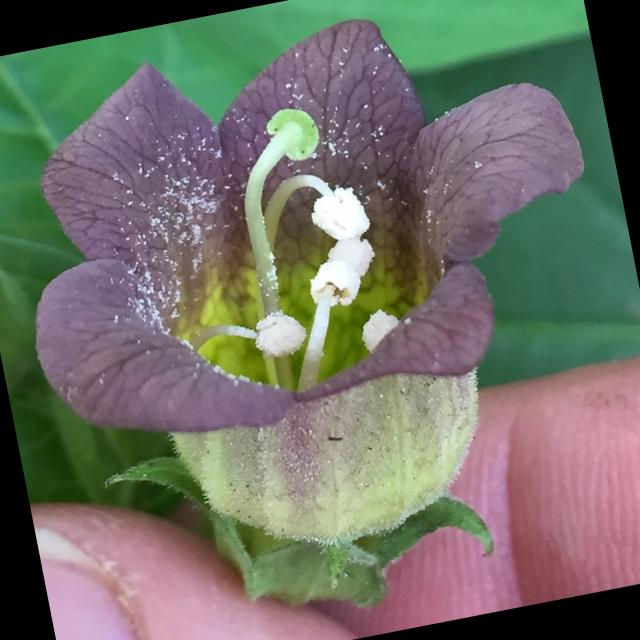Belladonna: (8, 7, 619, 634)
